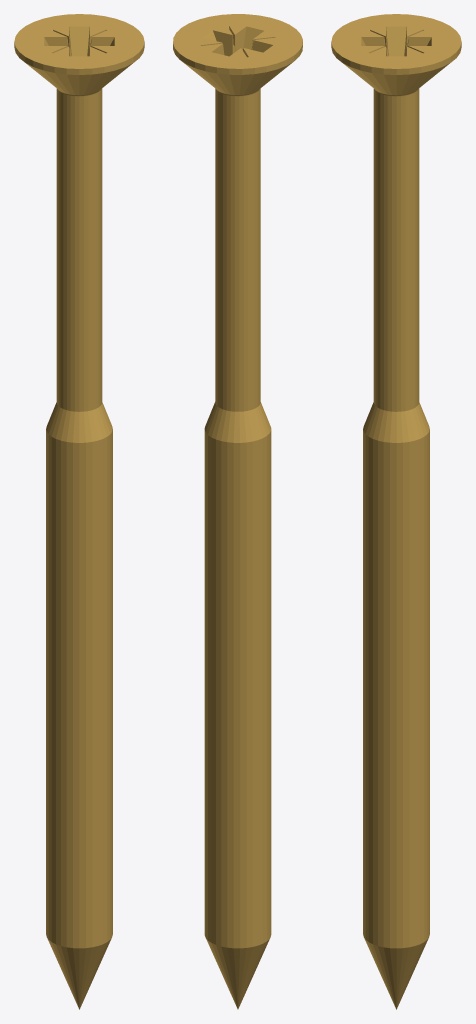
The model's file is model_display.glb.
3 renders of one model, left to right at view 1: azimuth 90°, elevation 25°; view 2: azimuth 150°, elevation 25°; view 3: azimuth 270°, elevation 25°, orthographic.
Visible parts, largest first — view 1: geometry_0; view 2: geometry_0; view 3: geometry_0.
Boxes of the visible parts, left/top/right/bottom form: geometry_0: left=14, top=14, right=144, bottom=1009; geometry_0: left=173, top=14, right=302, bottom=1009; geometry_0: left=331, top=14, right=461, bottom=1009.
Size of the model in its own units: 0.00975 by 0.08 by 0.00975.
